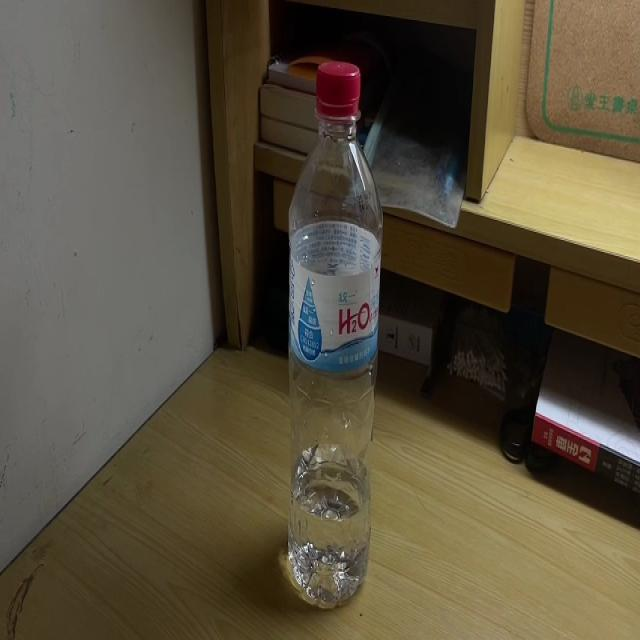Water: (288, 61, 381, 606)
